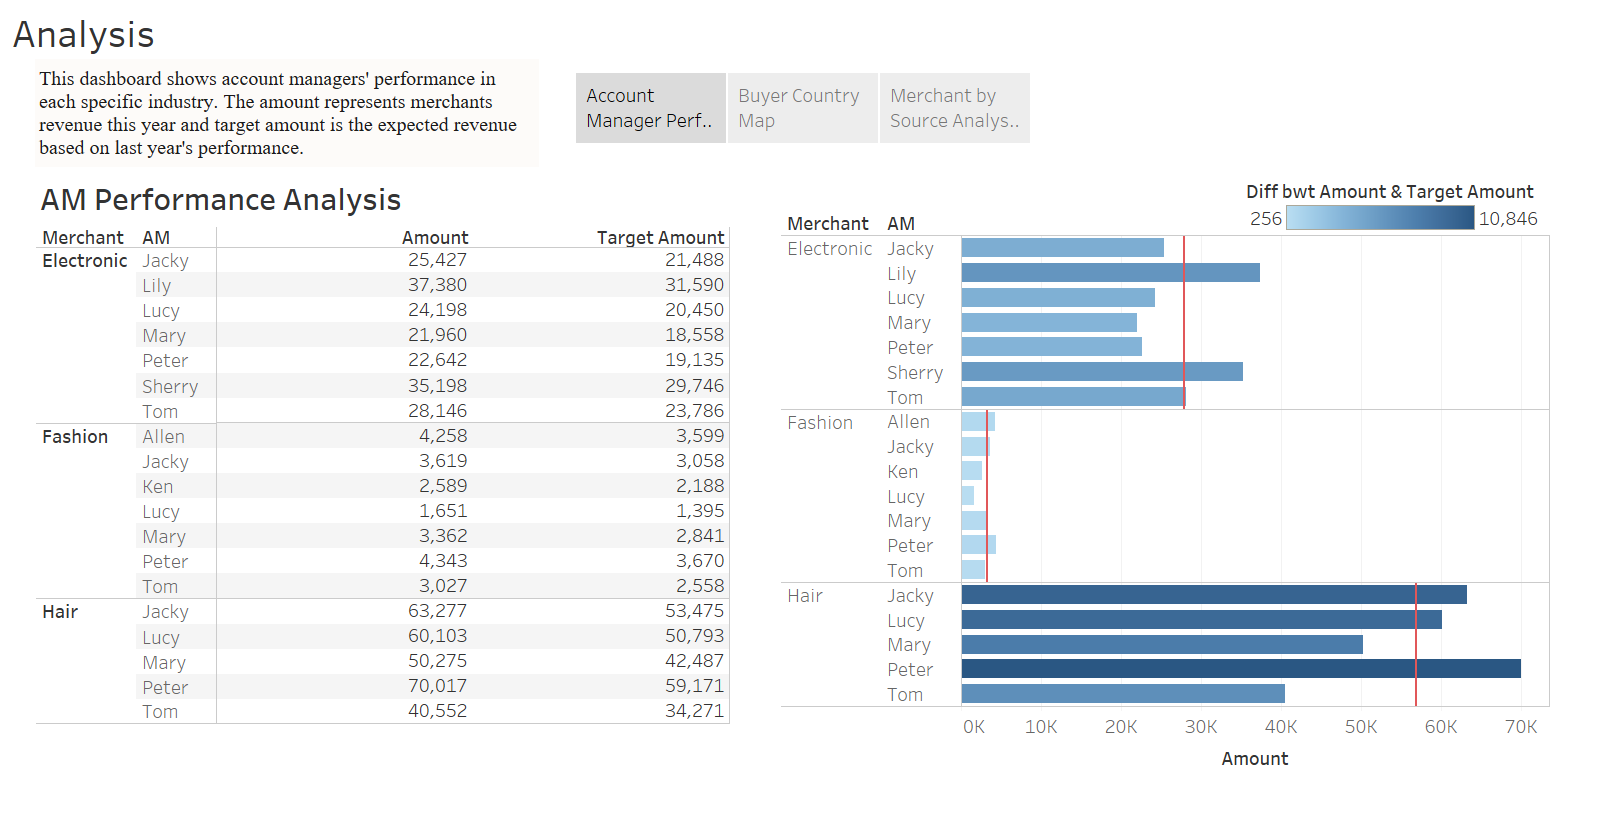

Layout of this report page (visuals, bound fields, positions):
{"tool":"tableau","page":{"name":"AM Performance","canvas":[1000,1000],"units":"permille","ordinal":0},"visuals":[{"type":"worksheet","title":"AM Performance Pivot","mark":"Automatic","rows":["Merchant","AM"],"box":[15,12.2,442,862]},{"type":"legend","title":"AM Performance Chart","param":"[federated.1iu6d490tsmmre1aef6dt1ko5ha0].[sum:Calculation_1123366669564940289:qk","box":[776.8,17.1,192.6,124.5]},{"type":"worksheet","title":"AM Performance Chart","mark":"Automatic","rows":["Merchant","AM"],"cols":["Amount"],"box":[484.4,79.4,489.4,875.5]}]}

Visuals, with their boxes on the dashboard's canvas, which has no fixed pixel size, in thousandths of its width and height (x1, y1, x2, y2). These are canvas units, not pixel positions in the 1604x819 screenshot, which may show the page scaled, cropped or inside an application window:
"AM Performance Pivot" worksheet: bbox(15, 12, 457, 874)
"AM Performance Chart" legend: bbox(777, 17, 969, 142)
"AM Performance Chart" worksheet: bbox(484, 79, 974, 955)
